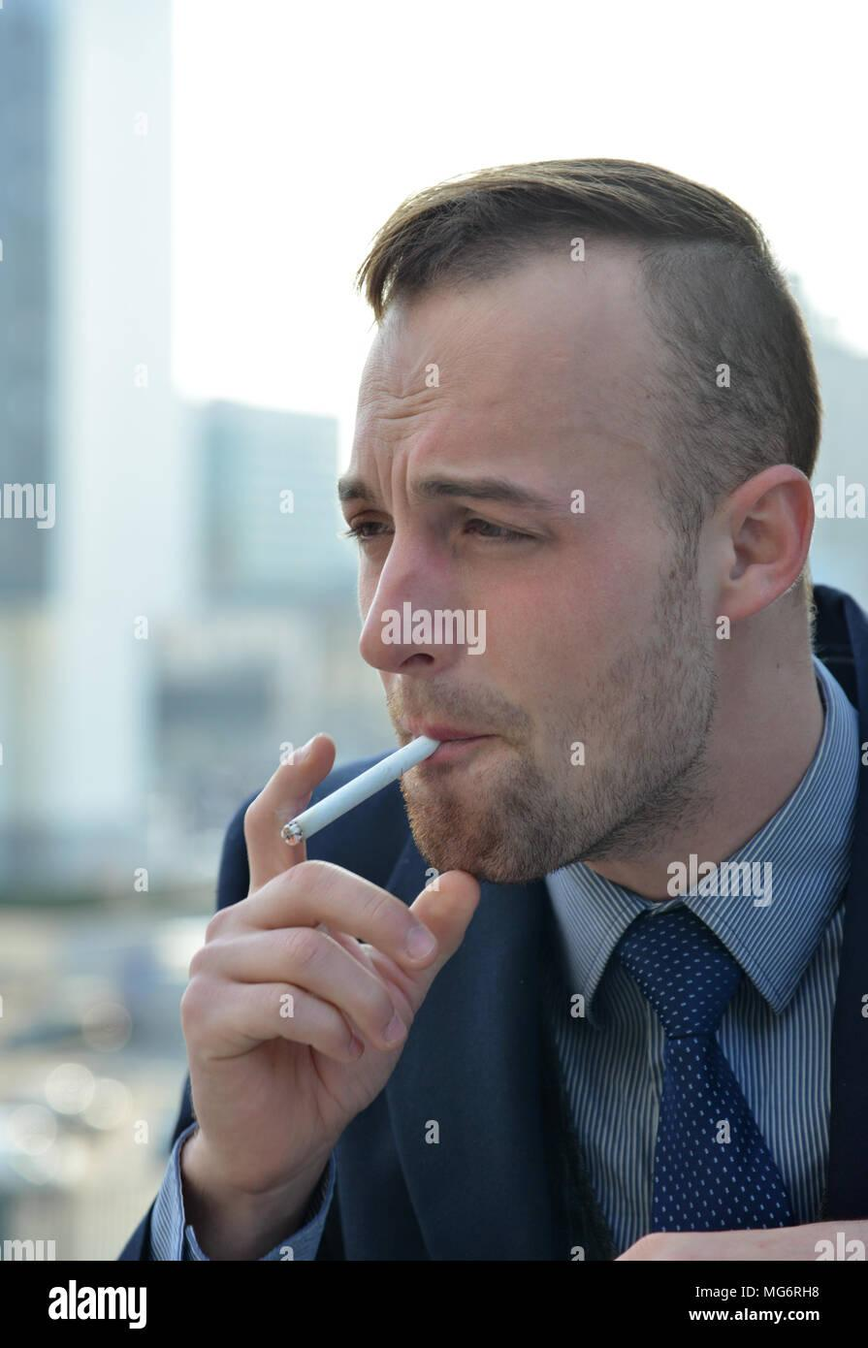cigarette: (280, 736, 439, 845)
